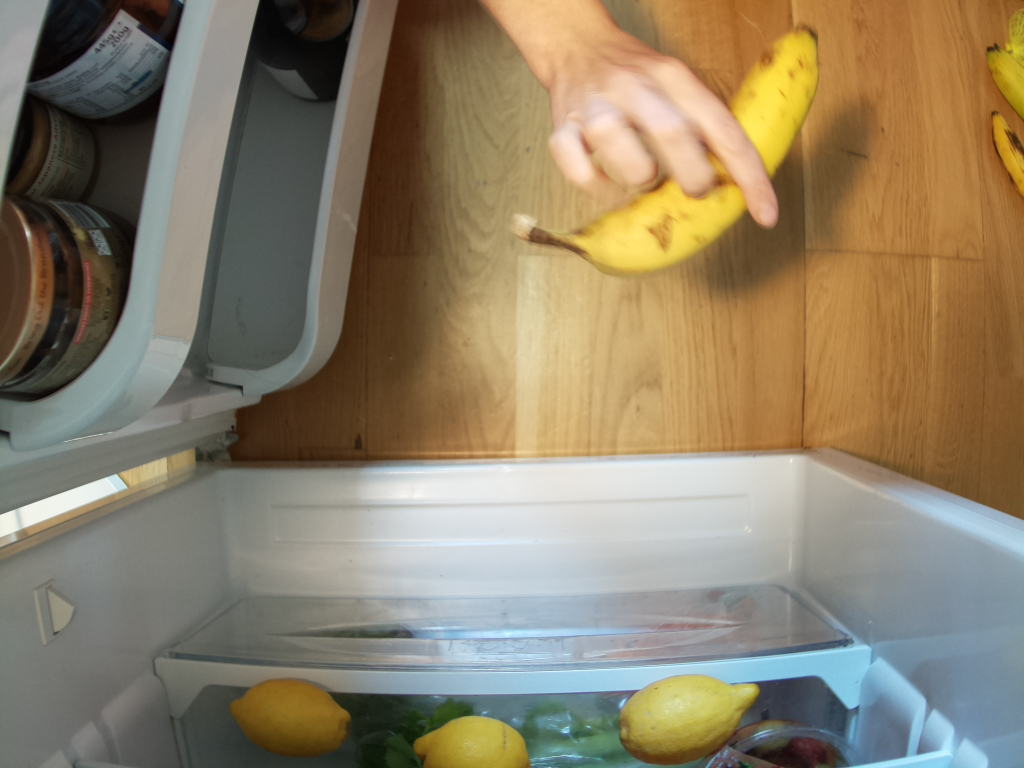banana: (517, 21, 826, 280)
